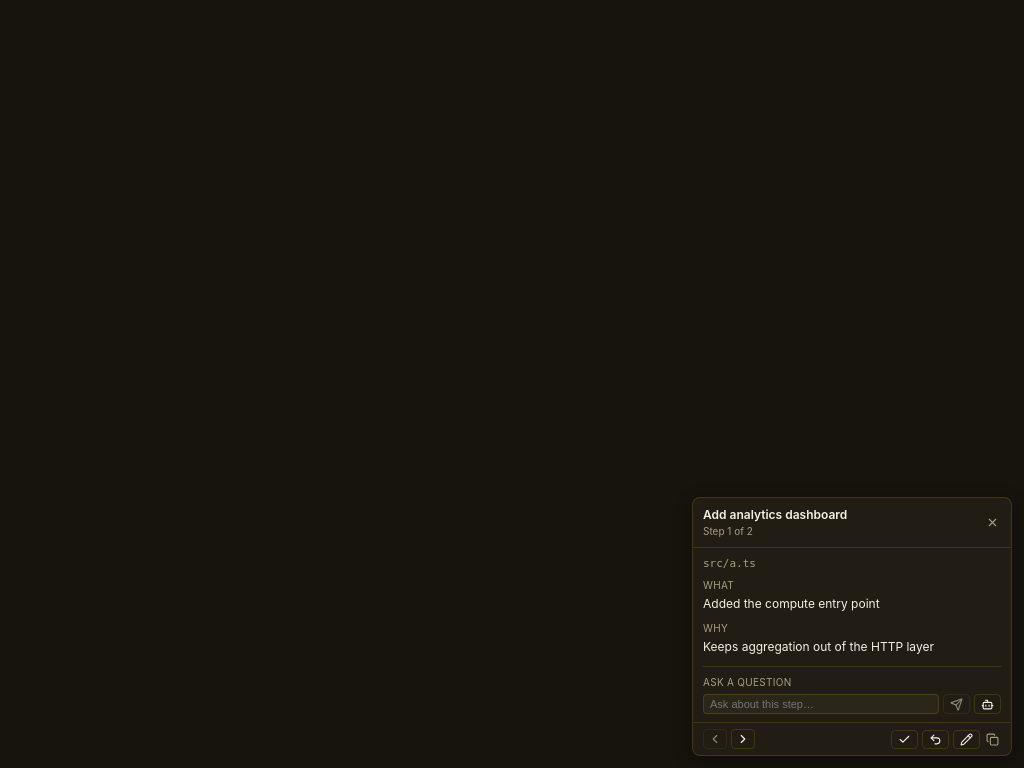
it: TourCard › stages the current step's file and records the 'staged' decision
Expected: the text "Step 1 of 2" is shown, [703, 524, 753, 536]
Click the button named "stage step" at (904, 739), box [891, 730, 918, 748]
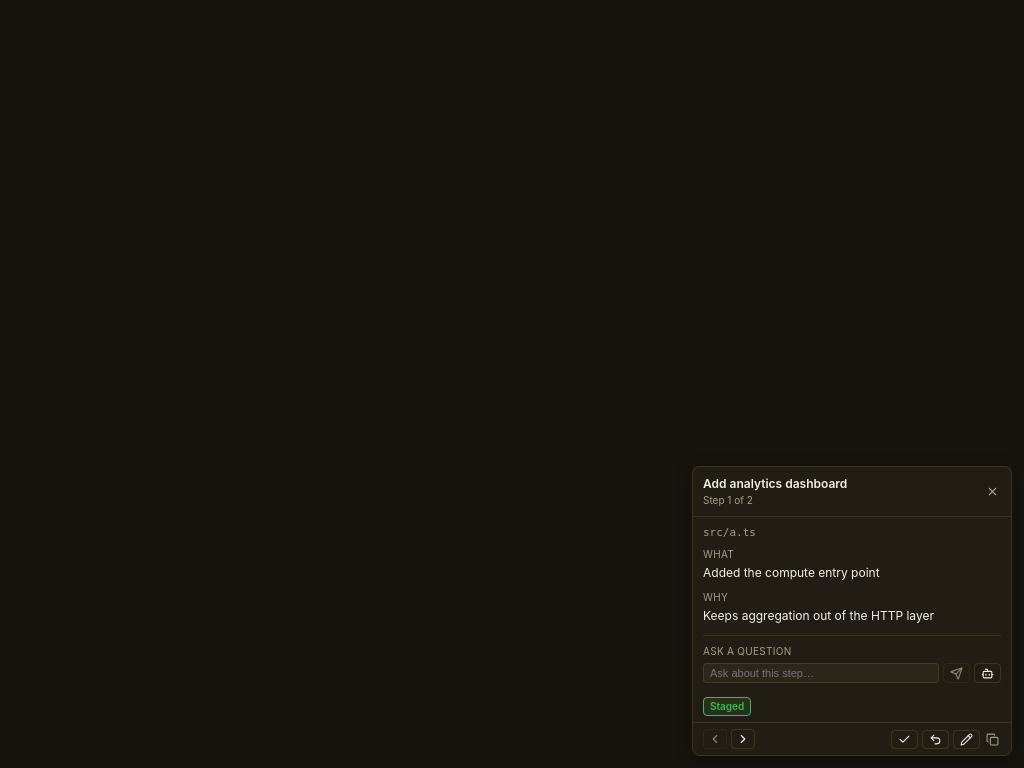
Expected: the text "Staged" is shown, [703, 697, 751, 716]
